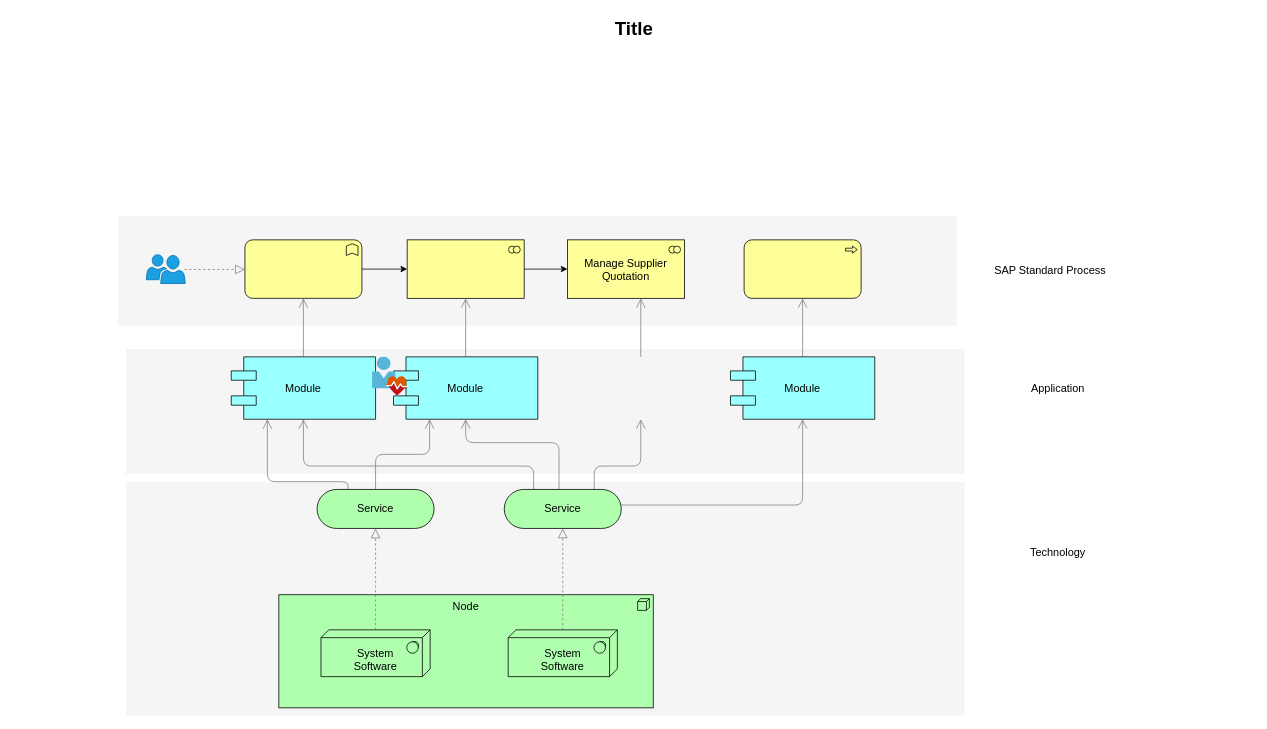
Some shapes in this 1267 by 729 pixel diagram are drawn without their labels. The shapes that lost their labels are listed below. From the top down, each one's centre as x and y in pixels, then its label:
At point 303,268: "GPS Planning / Requisitioning system".
At point 465,268: "Manage Sourcing Projects".
At point 802,268: "Process".
